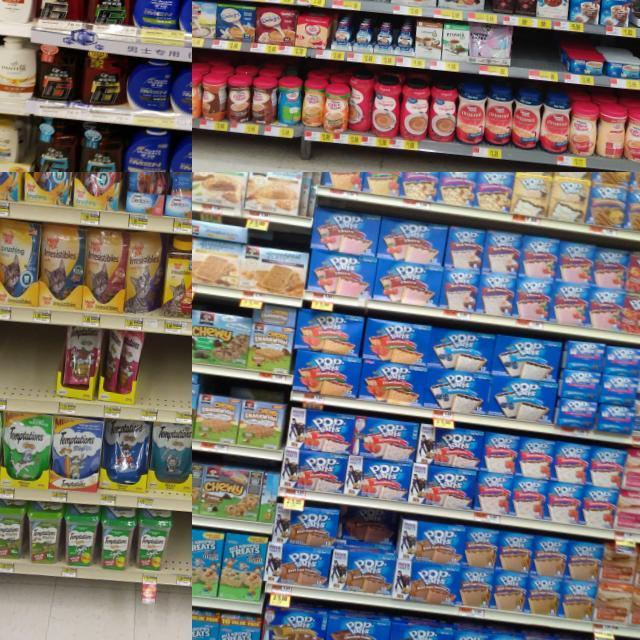Imprecise: (338, 506, 397, 600), (104, 328, 142, 409)
